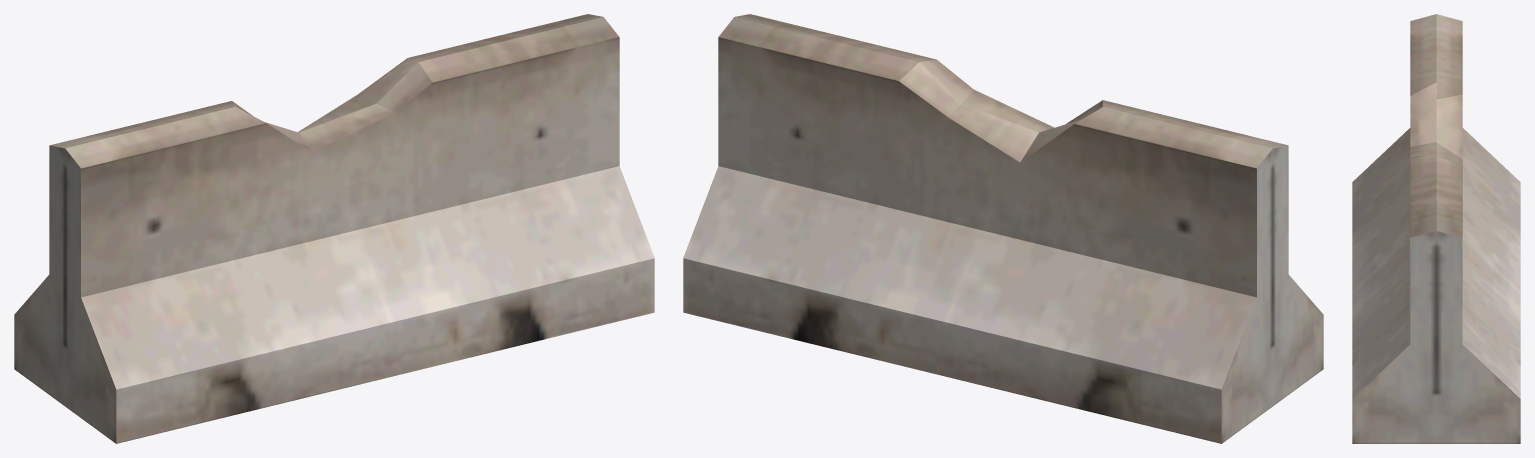
The model's file is Urban_JerseyBarrierBrokenCenter_Model.fbx.
3 renders of one model, left to right at view 1: azimuth 30°, elevation 25°; view 2: azimuth 150°, elevation 25°; view 3: azimuth 270°, elevation 25°, orthographic. The views are drawn at different scales.
Visible parts, largest first — view 1: Urban_JerseyBarrierBrokenCenter_Mesh; view 2: Urban_JerseyBarrierBrokenCenter_Mesh; view 3: Urban_JerseyBarrierBrokenCenter_Mesh.
Boxes of the visible parts, x1=… form: Urban_JerseyBarrierBrokenCenter_Mesh: x1=14, y1=14, x2=654, y2=443; Urban_JerseyBarrierBrokenCenter_Mesh: x1=683, y1=14, x2=1323, y2=443; Urban_JerseyBarrierBrokenCenter_Mesh: x1=1352, y1=14, x2=1520, y2=443.
Size of the model in its own units: 2.48 by 1.14 by 0.8144.
